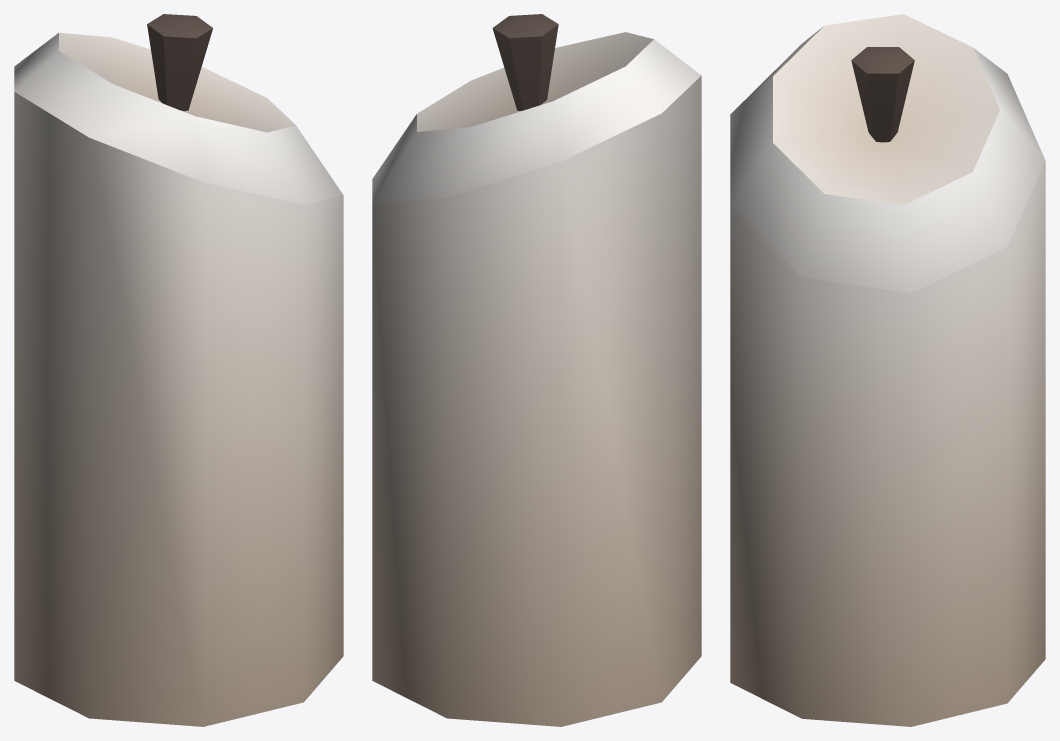
Rendered from candle_melted.glb.
3 renders of one model, left to right at view 1: azimuth 30°, elevation 25°; view 2: azimuth 150°, elevation 25°; view 3: azimuth 270°, elevation 25°, orthographic. The views are drawn at different scales.
Parts seen in each view (by area): view 1: candle_melted; view 2: candle_melted; view 3: candle_melted.
Part boxes in pixels (x1=…): candle_melted: x1=14, y1=14, x2=343, y2=726; candle_melted: x1=372, y1=14, x2=701, y2=726; candle_melted: x1=730, y1=14, x2=1045, y2=726.
Bounding box in the file's own units: 0.3344 × 0.7015 × 0.3293.
Materials: 1 (1 with a texture image).
